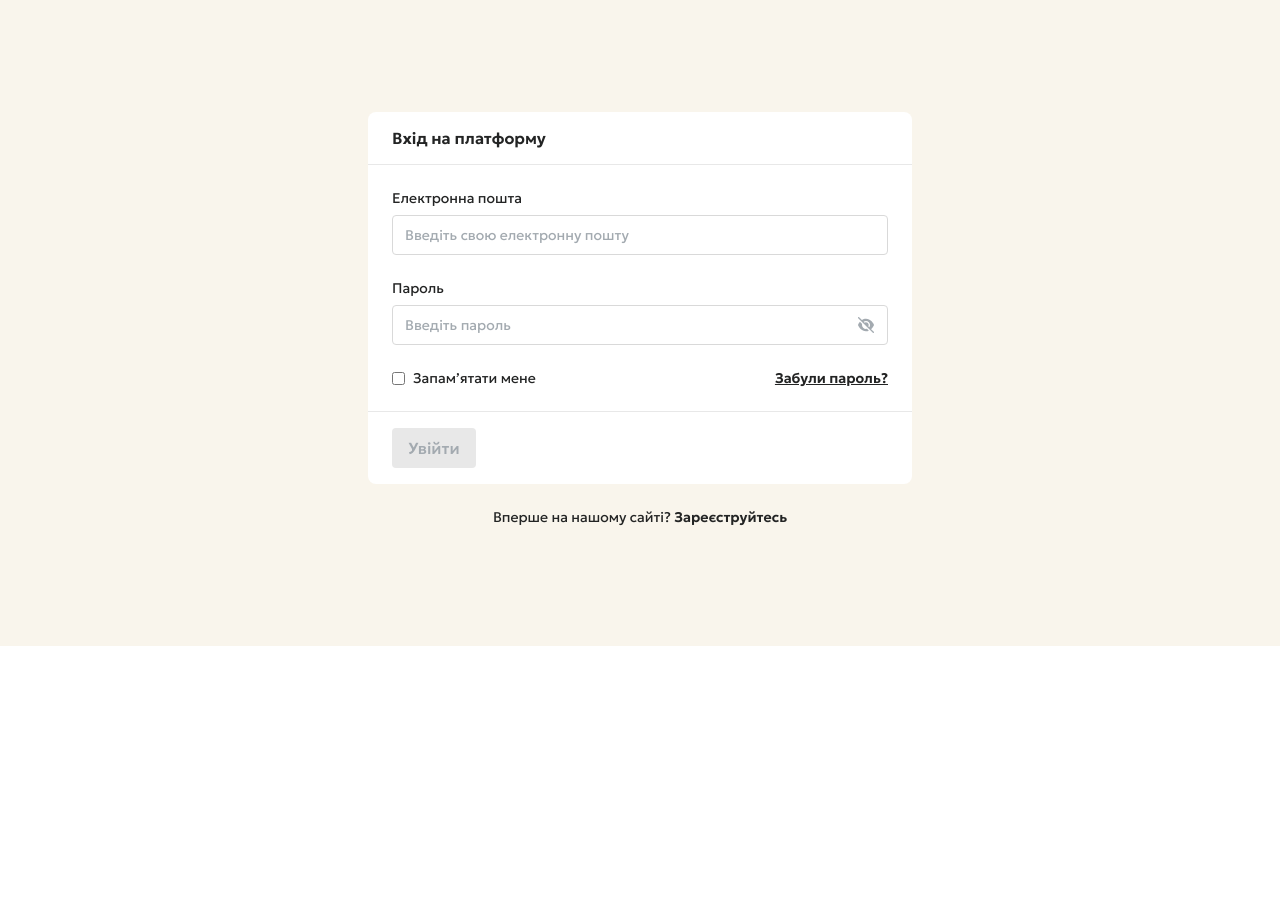
Test case: Login page › disables the button while the request is in progress
Type "founder@example.com" into the field labelled "Електронна пошта".
click(640, 235); type("founder@example.com")  # box [392, 215, 888, 255]
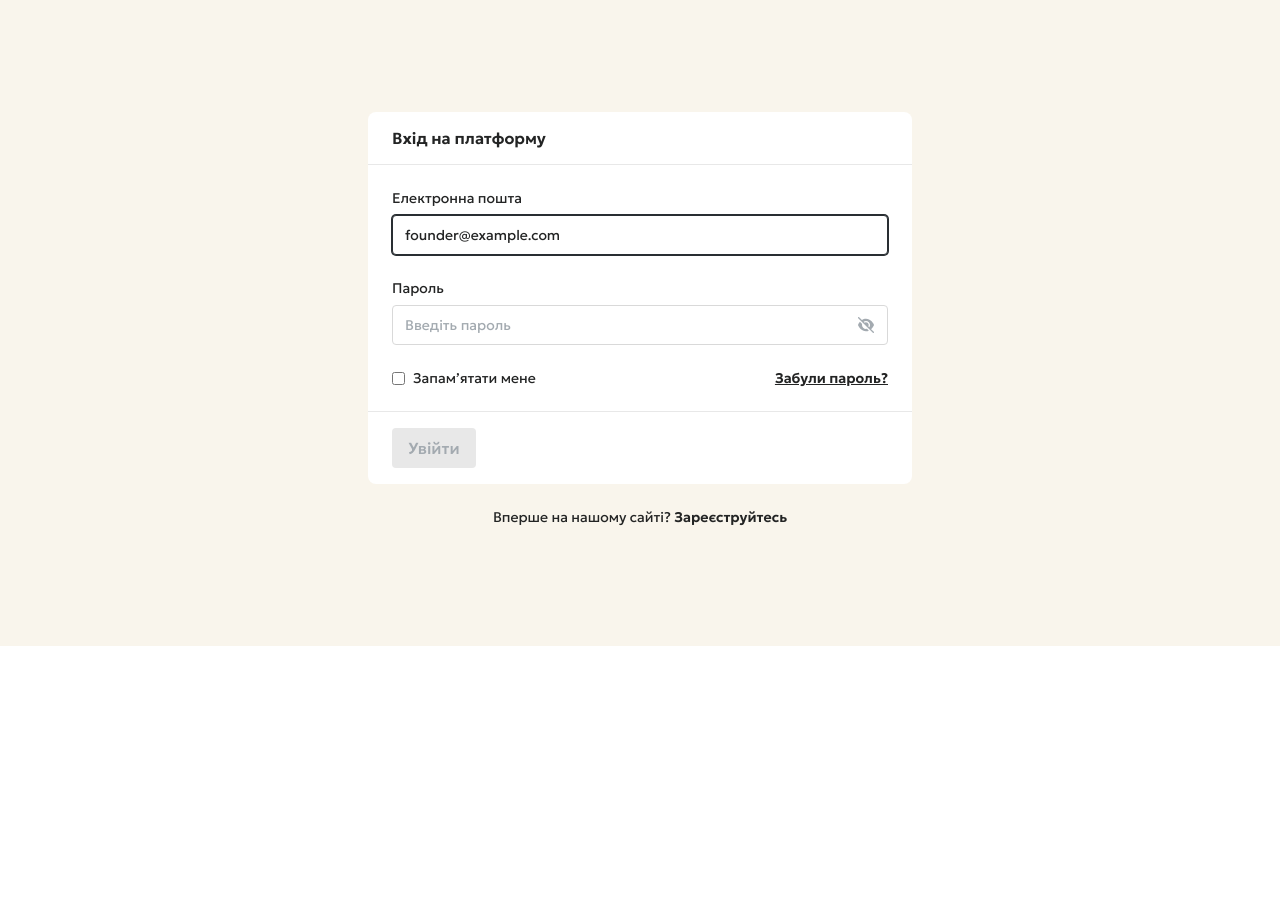
Type "secret" into the password field labelled "Пароль".
click(640, 325); type("secret")  # box [392, 305, 888, 345]
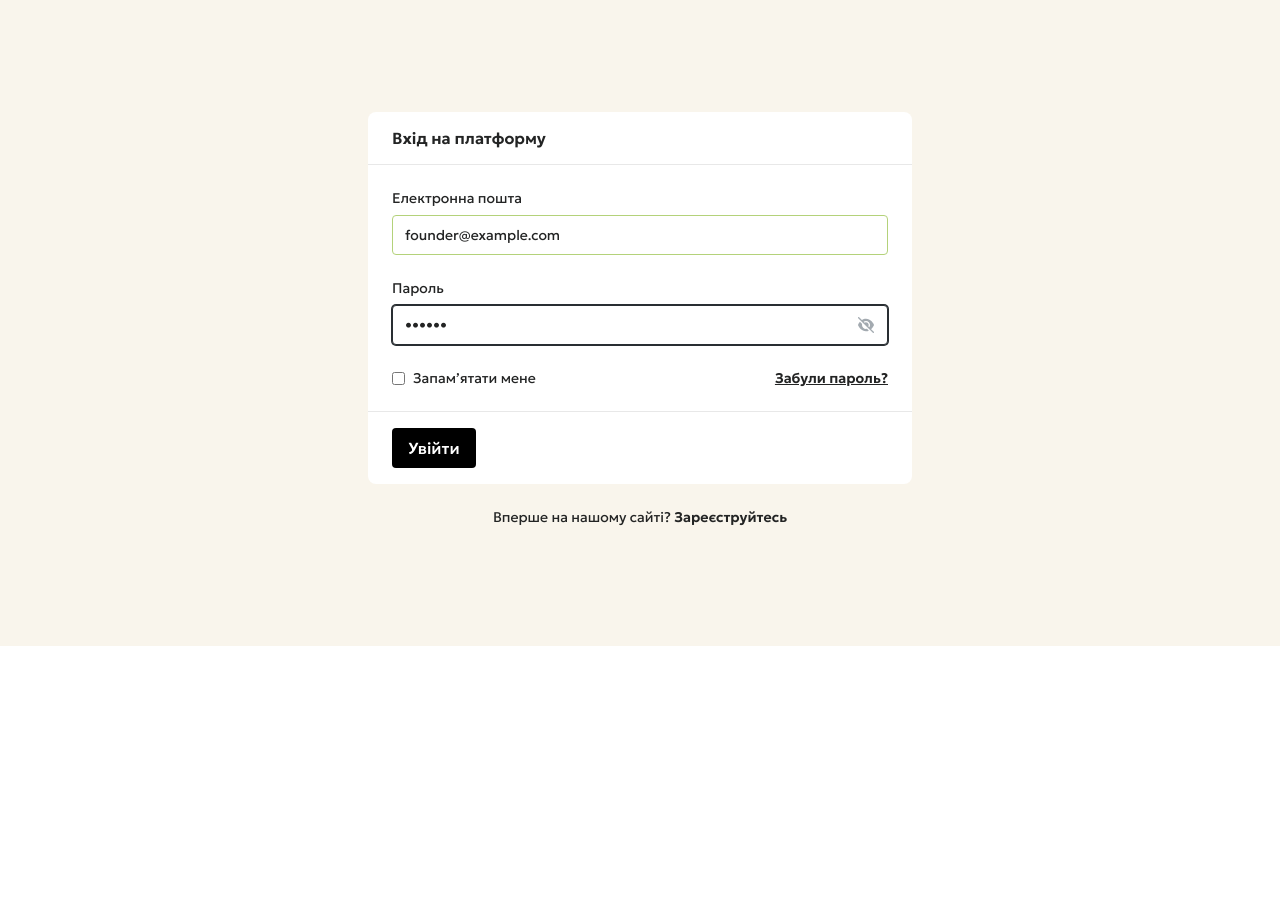
Click the button "Увійти".
click(434, 448)  # box [392, 428, 476, 468]
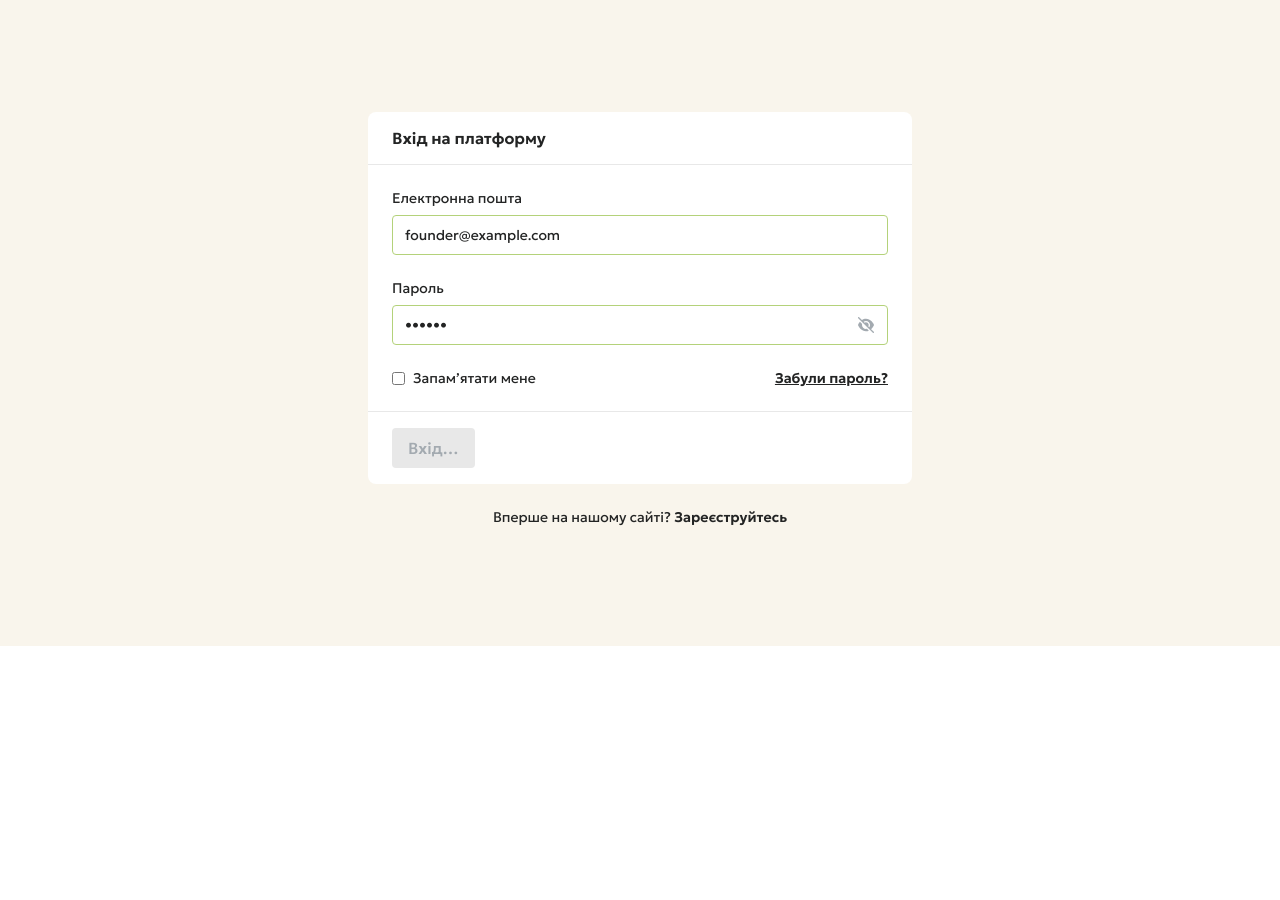
Expected: the button "Вхід…" is disabled, [392, 428, 474, 468]
